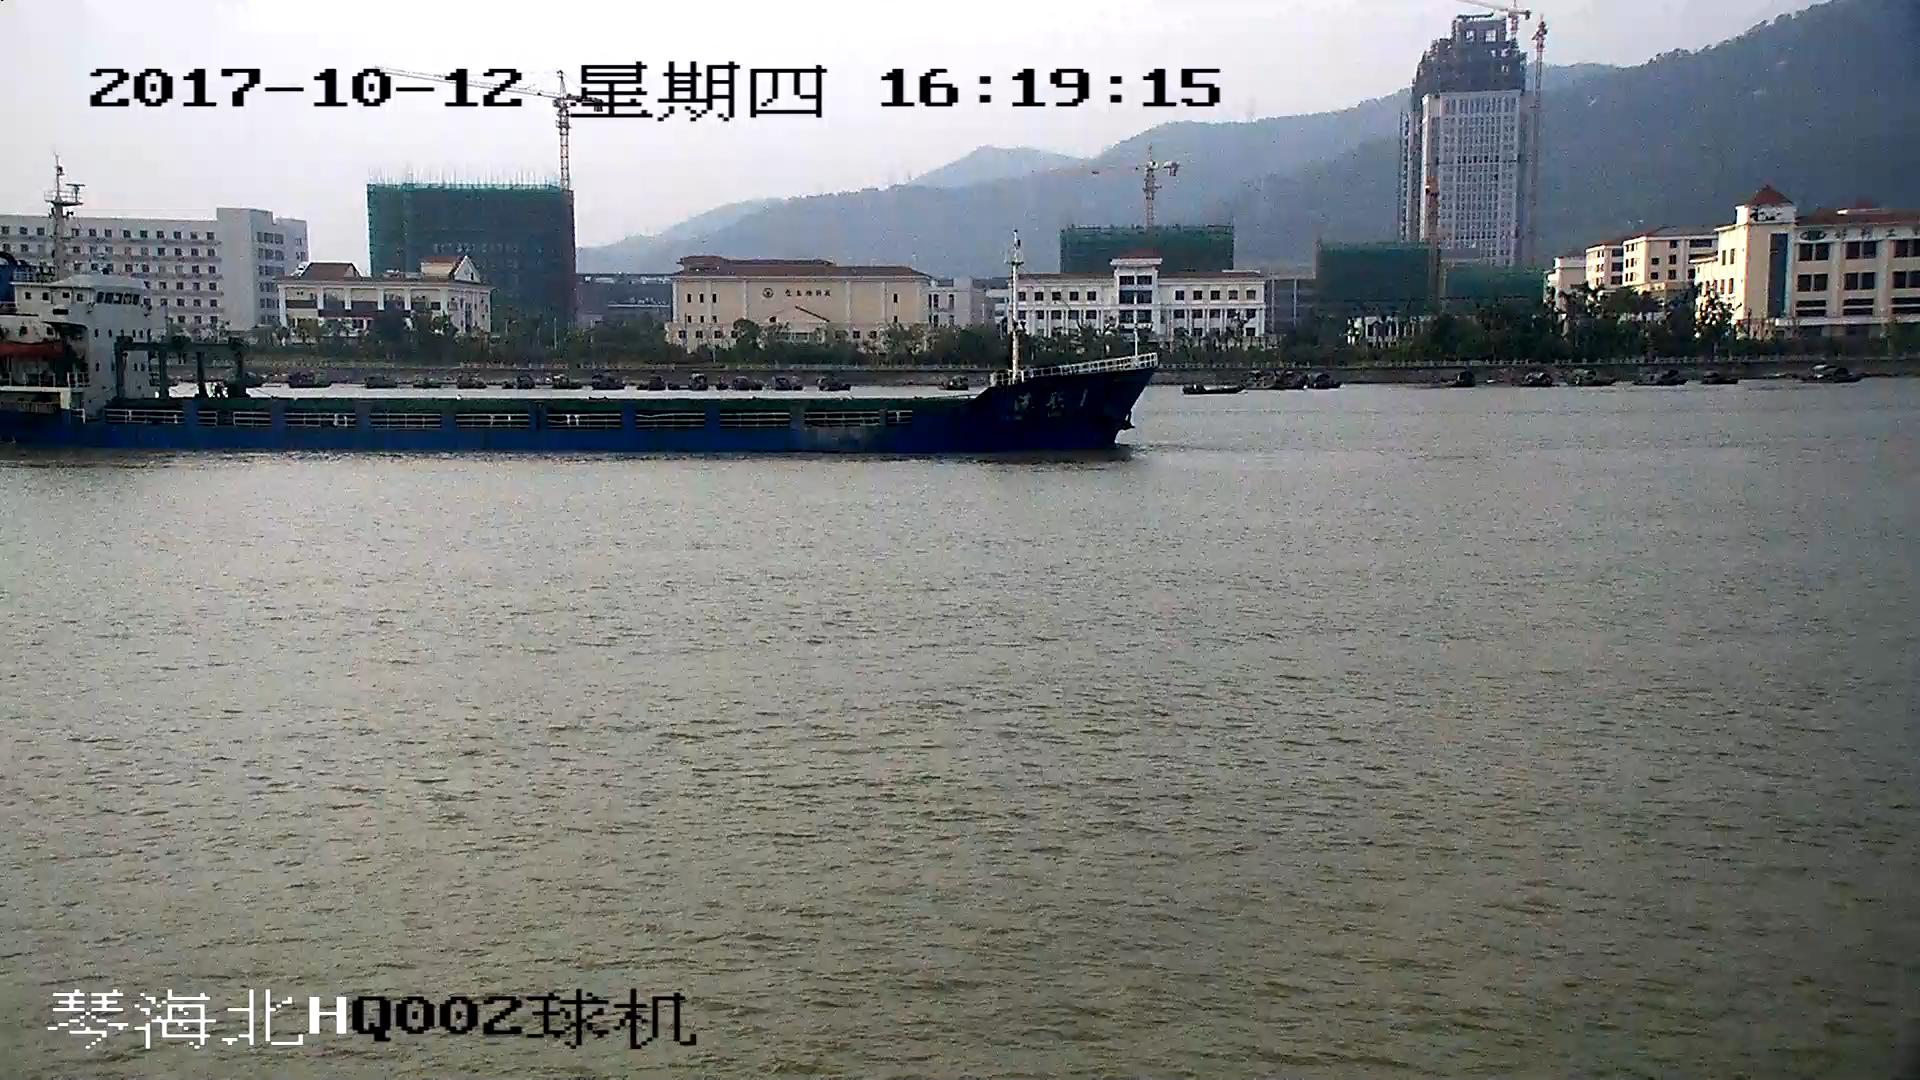general cargo ship: (1, 166, 1149, 455)
